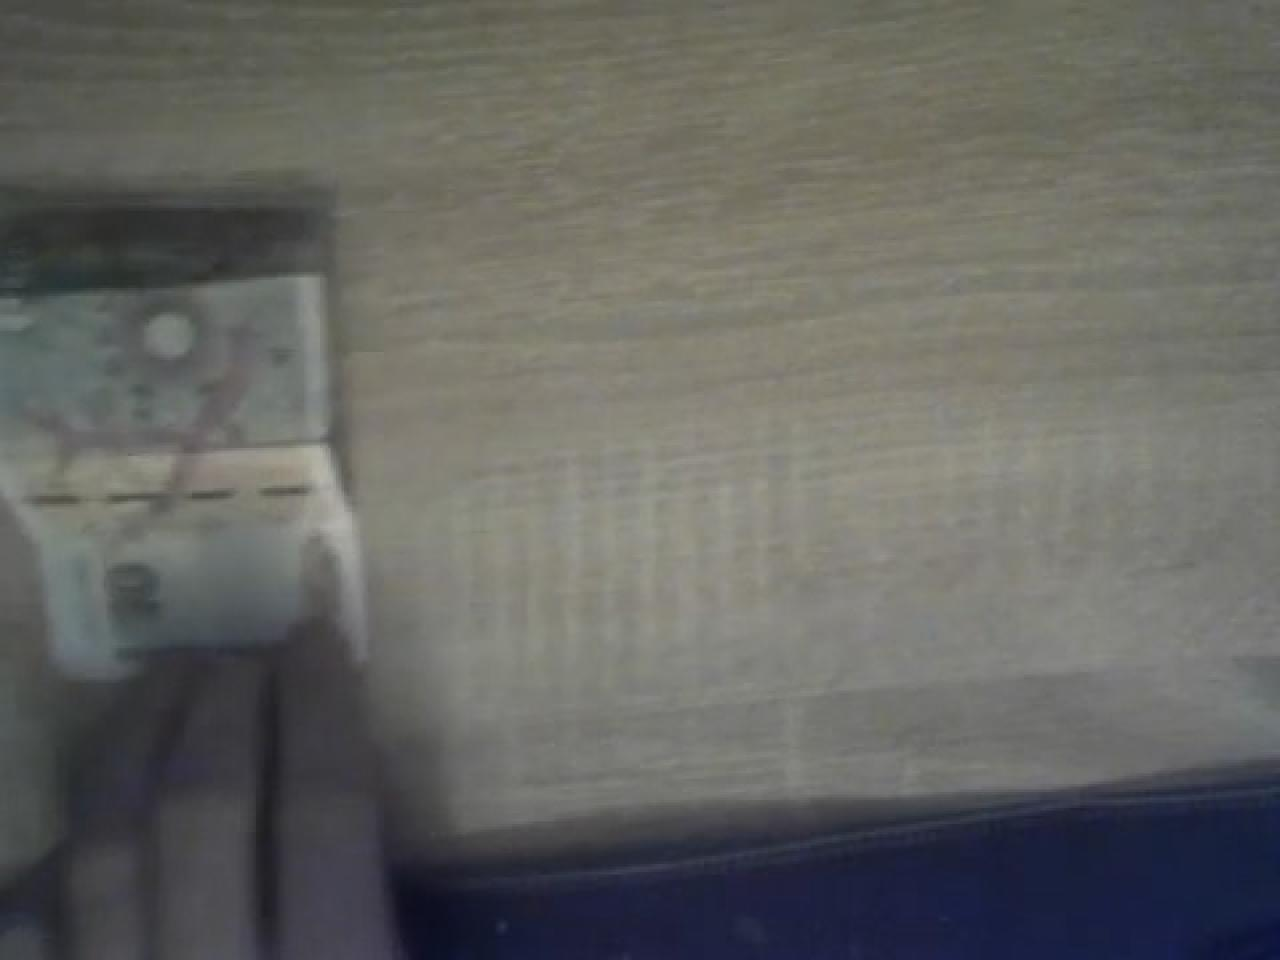10leva: (0, 195, 397, 960)
